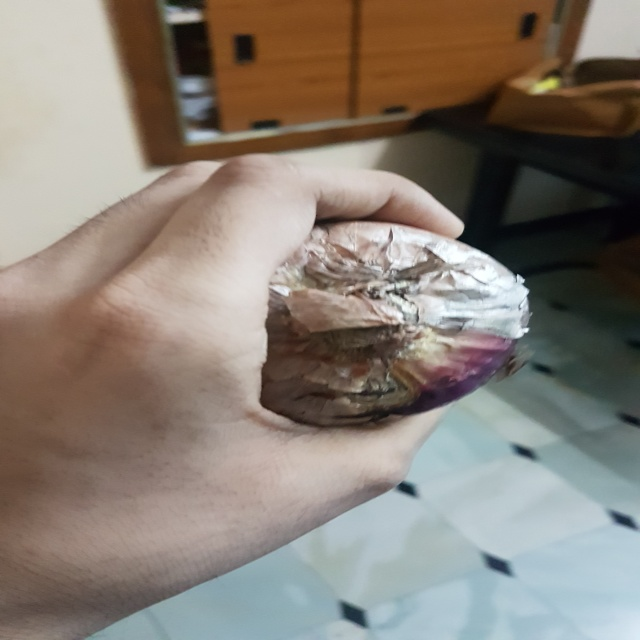onion: (207, 221, 535, 431)
